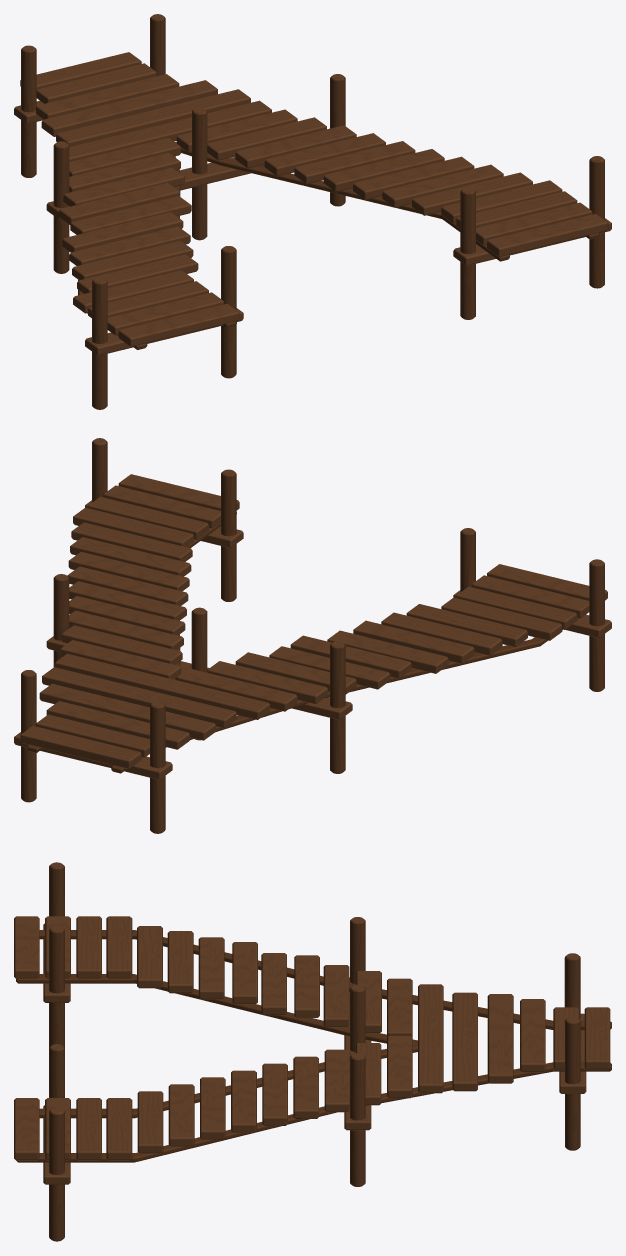
File: M_Small_Split.fbx
3 views of the same model, one above another, from view 1: azimuth 30°, elevation 25°; view 2: azimuth 150°, elevation 25°; view 3: azimuth 270°, elevation 25° (orthographic).
Visible parts, largest first — view 1: M_Small_Split; view 2: M_Small_Split; view 3: M_Small_Split.
Boxes of the visible parts, x1,y1,x2,y2 form: M_Small_Split: (14, 14, 611, 409); M_Small_Split: (14, 438, 611, 833); M_Small_Split: (14, 862, 611, 1241).
Bounding box in the file's own units: 1400 × 332 × 1391.
